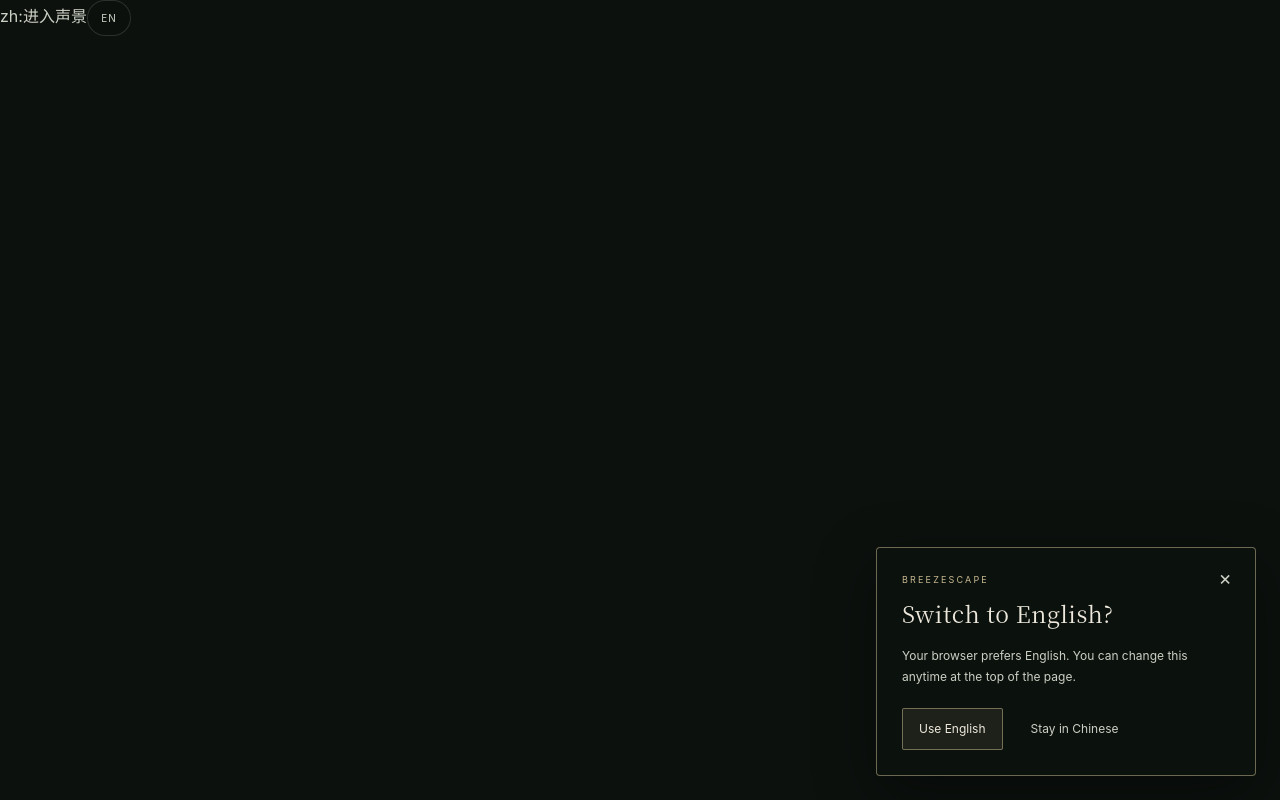
Test case: browser language suggestion › suggests English once, applies the whole UI and remembers the choice
Expected: the dialog is shown, top-left (876, 547), bottom-right (1256, 776)
Expected: the text with test id "current" reads "zh:进入声景", top-left (0, 6), bottom-right (87, 26)
Click the button "Use English" at (952, 729), box top-left (902, 708), bottom-right (1002, 750)
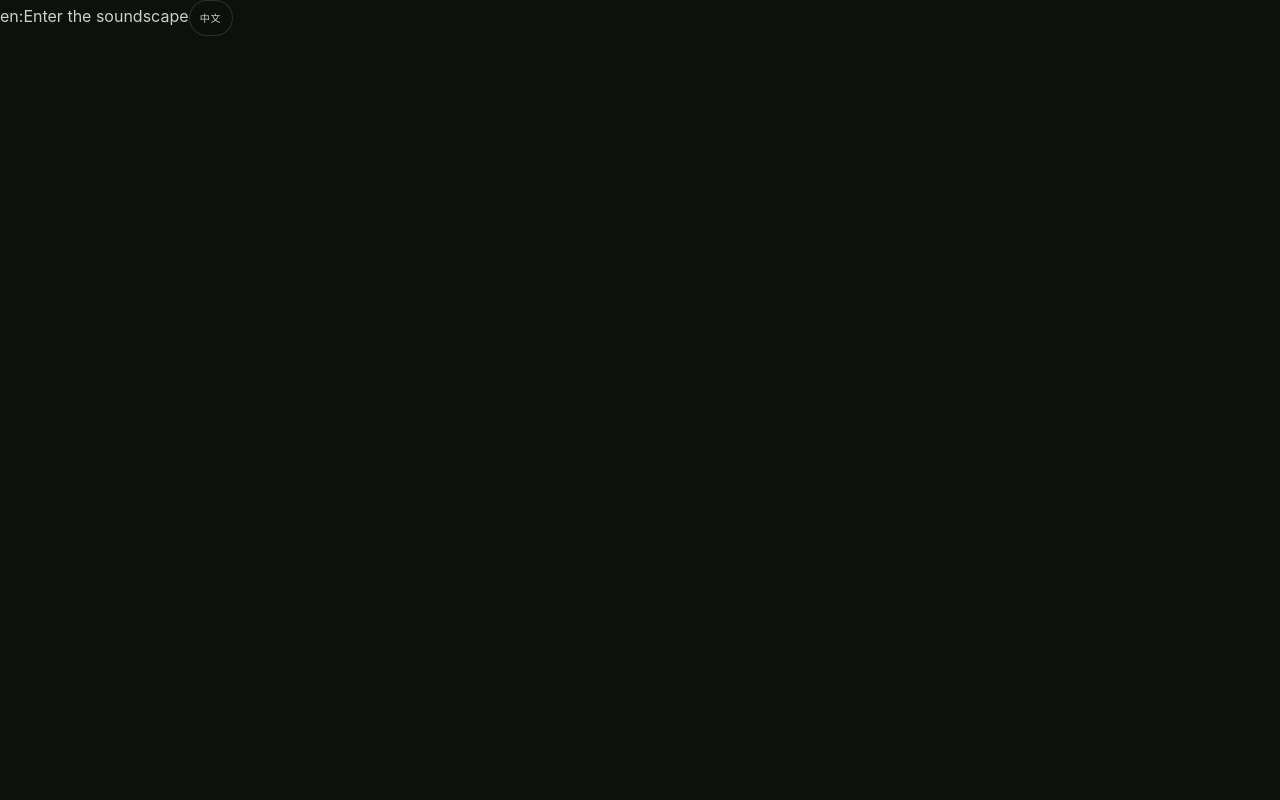
Expected: the dialog is gone
Expected: the text with test id "current" reads "en:Enter the soundscape", top-left (0, 6), bottom-right (188, 26)
